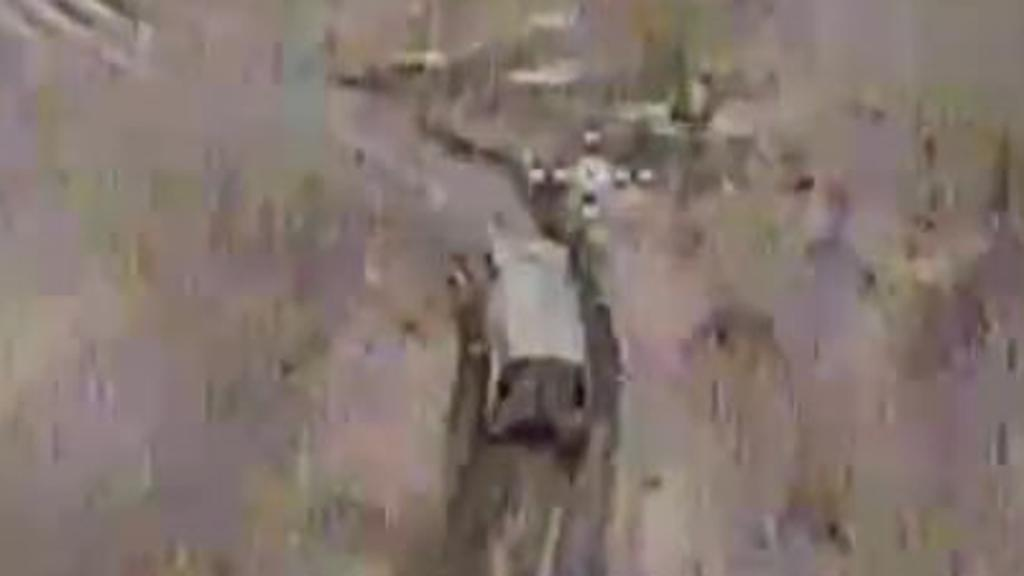TRUCK: (468, 235, 592, 447)
